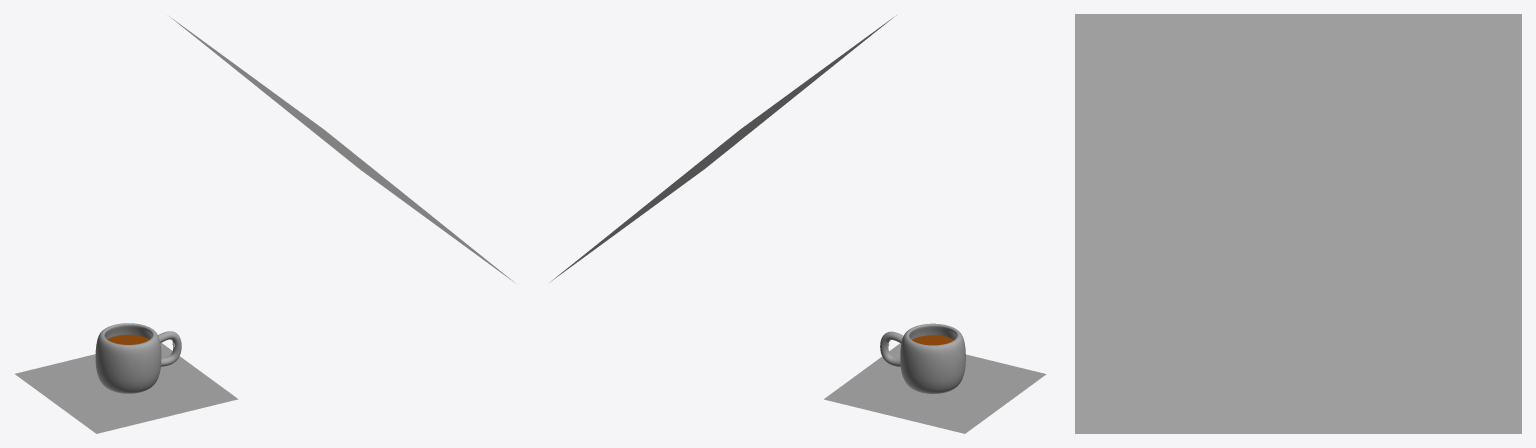
Rendered from coffee.FBX.
3 views of the same model, side by side, from view 1: azimuth 30°, elevation 25°; view 2: azimuth 150°, elevation 25°; view 3: azimuth 270°, elevation 25° (orthographic). The views are drawn at different scales.
Visible parts, largest first — view 1: Plane, NurbsPath, Plane_001; view 2: Plane, NurbsPath, Plane_001; view 3: Plane_001.
Part boxes in pixels (x1=…): Plane: x1=15, y1=343, x2=238, y2=433; NurbsPath: x1=95, y1=323, x2=181, y2=393; Plane_001: x1=169, y1=16, x2=515, y2=283; Plane: x1=824, y1=343, x2=1046, y2=433; NurbsPath: x1=880, y1=323, x2=965, y2=393; Plane_001: x1=551, y1=15, x2=896, y2=281; Plane_001: x1=1075, y1=14, x2=1521, y2=433.
Bounding box in the file's own units: 5.49 × 3.93 × 3.94.
